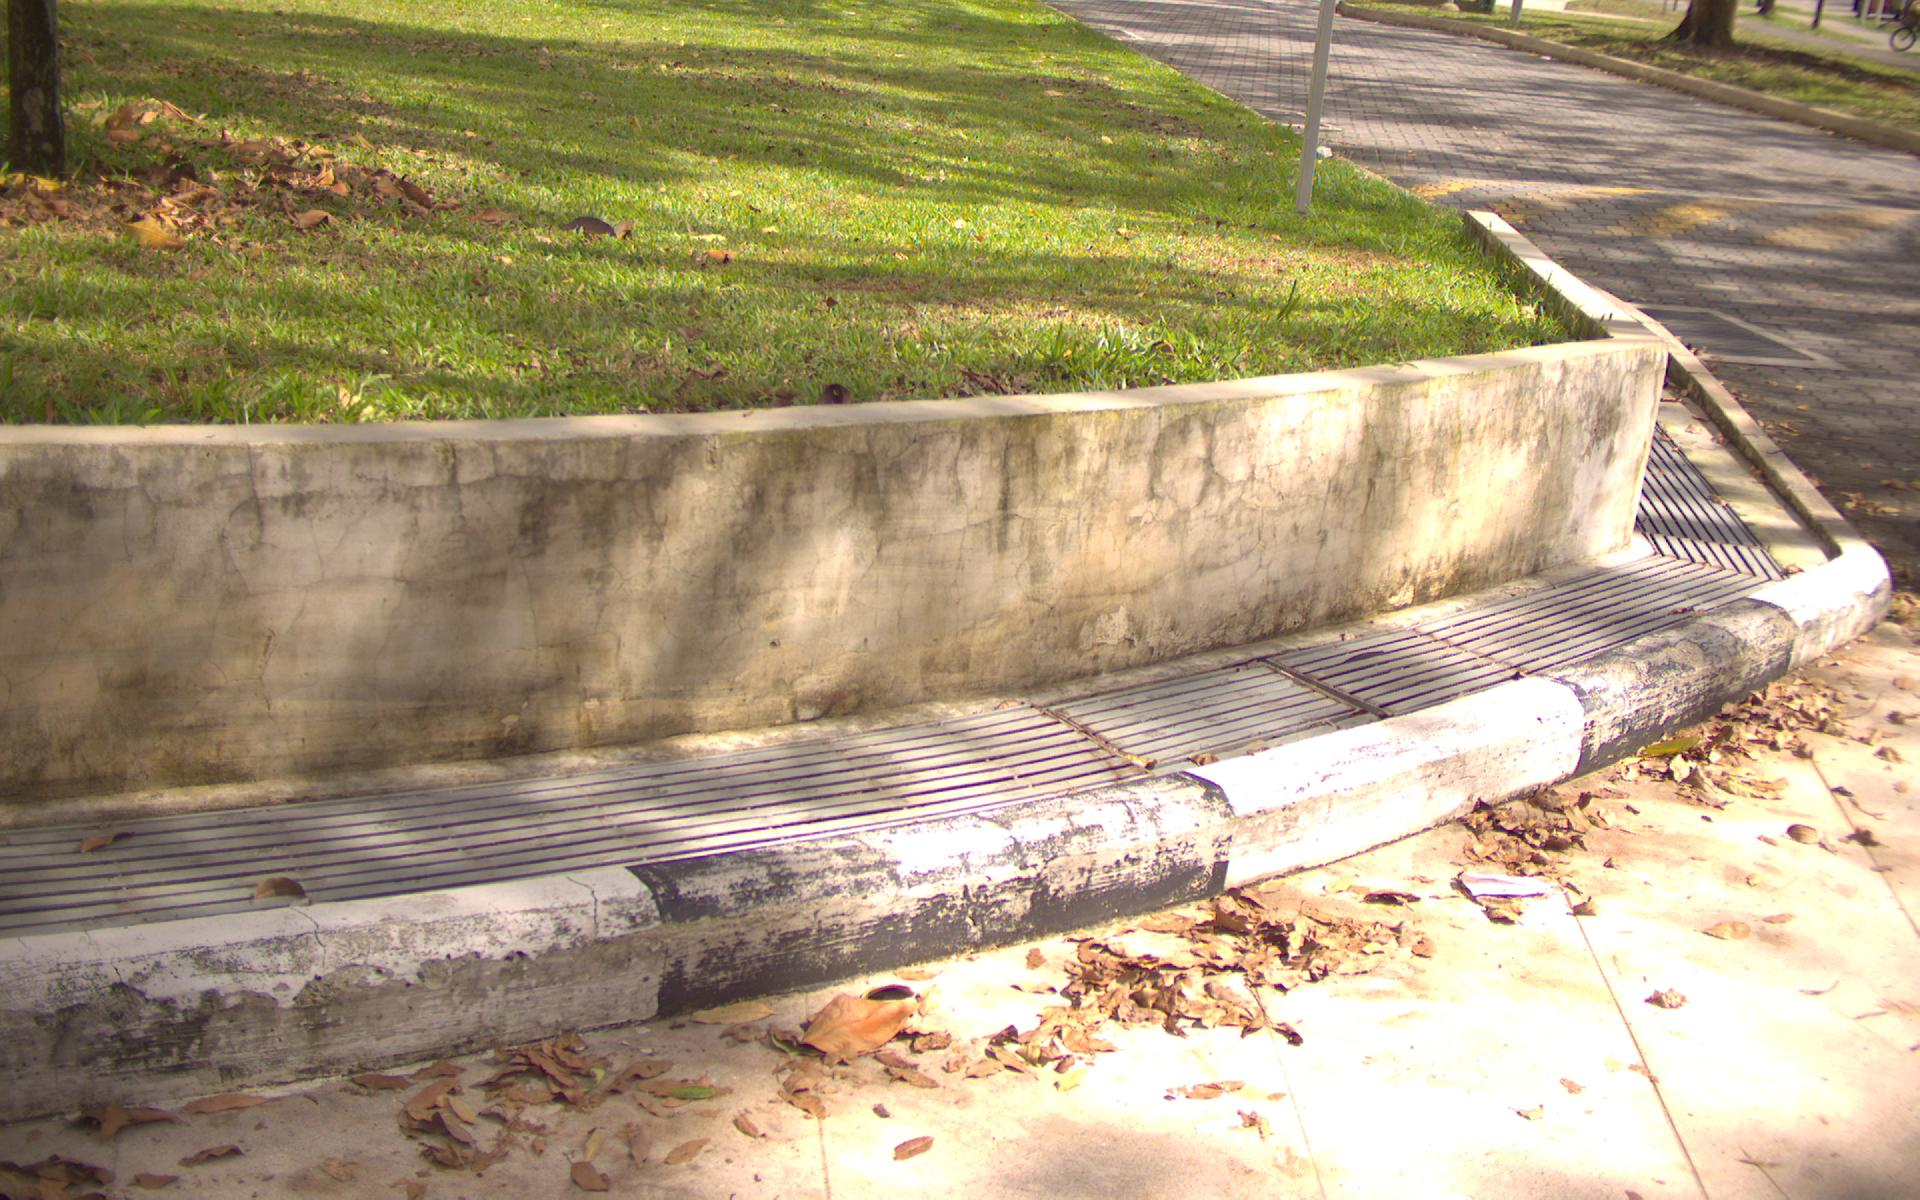curb_dic_low: (17, 769, 784, 910)
pathway_low: (1334, 62, 1721, 149)
road_curb_medium: (406, 1045, 1897, 1200)
road_turf_low: (1, 10, 1057, 379)
